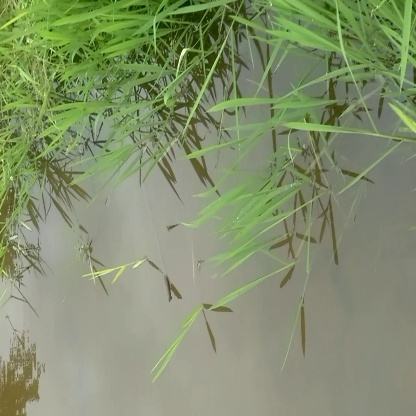grass: (178, 172, 330, 315)
